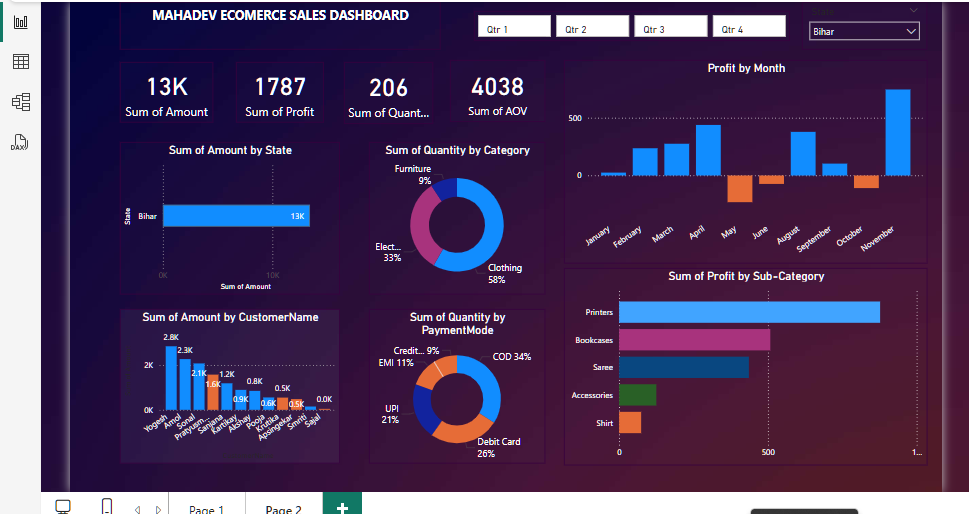

What the dashboard file says about the page in this screenshot:
{"tool":"powerbi","page":{"name":"Page 2","canvas":[1280,720],"ordinal":1},"visuals":[{"type":"textbox","box":[72.9,0,471.4,70],"z":0},{"type":"columnChart","title":"Profit  by Month","fields":{"Y":["Details.Profit"],"Category":["Orders.Order Date.Variation.Date Hierarchy.Month"]},"box":[725.7,85.7,534.3,298.6],"z":1000},{"type":"clusteredBarChart","fields":{"Y":["Details.Profit"],"Category":["Details.Sub-Category"]},"box":[725.7,391.4,534.3,290],"z":2000},{"type":"donutChart","fields":{"Y":["Details.Quantity"],"Category":["Details.Category"]},"box":[440,205.7,258.6,224.3],"z":3000},{"type":"donutChart","fields":{"Y":["Details.Quantity"],"Category":["Details.PaymentMode"]},"box":[440,451.4,258.6,227.1],"z":4000},{"type":"card","fields":{"Values":["Details.Amount"]},"box":[72.9,88.6,137.1,88.6],"z":5000},{"type":"card","fields":{"Values":["Details.Profit"]},"box":[244.3,88.6,128.6,88.6],"z":6000},{"type":"card","fields":{"Values":["Details.Quantity"]},"box":[402.9,88.6,131.4,91.4],"z":7000},{"type":"card","fields":{"Values":["Details.AOV"]},"box":[558.6,85.7,140,91.4],"z":8000},{"type":"clusteredBarChart","fields":{"Y":["Details.Amount"],"Category":["Orders.State"]},"box":[72.9,205.7,322.9,224.3],"z":9000},{"type":"columnChart","fields":{"Category":["Orders.CustomerName"],"Y":["Details.Amount"]},"box":[72.9,451.4,322.9,227.1],"z":10000},{"type":"slicer","fields":{"Values":["Orders.State"]},"box":[1075.7,0,184.3,70],"z":12000},{"type":"advancedSlicerVisual","fields":{"Values":["Orders.Order Date.Variation.Date Hierarchy.Quarter"]},"box":[593.6,13.2,464.3,44.1],"z":12001}]}

Visuals, with their boxes in screenshot pixels (x1, y1, x2, y2):
textbox: 38,0,383,44
"Profit  by Month" columnChart: 515,55,906,273
clusteredBarChart - Details.Profit x Details.Sub-Category: 515,279,906,491
donutChart - Details.Quantity x Details.Category: 307,143,496,307
donutChart - Details.Quantity x Details.PaymentMode: 307,322,496,488
card - Details.Amount: 38,57,138,122
card - Details.Profit: 163,57,257,122
card - Details.Quantity: 279,57,375,124
card - Details.AOV: 393,55,496,122
clusteredBarChart - Details.Amount x Orders.State: 38,143,274,307
columnChart - Orders.CustomerName x Details.Amount: 38,322,274,488
slicer - Orders.State: 771,0,906,44
advancedSlicerVisual - Orders.Order Date.Variation.Date Hierarchy.Quarter: 419,2,758,34
